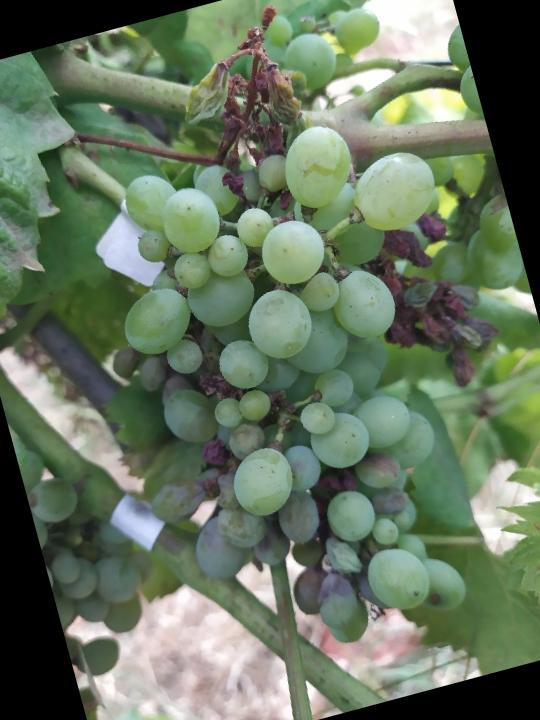grape: (38, 0, 540, 688)
